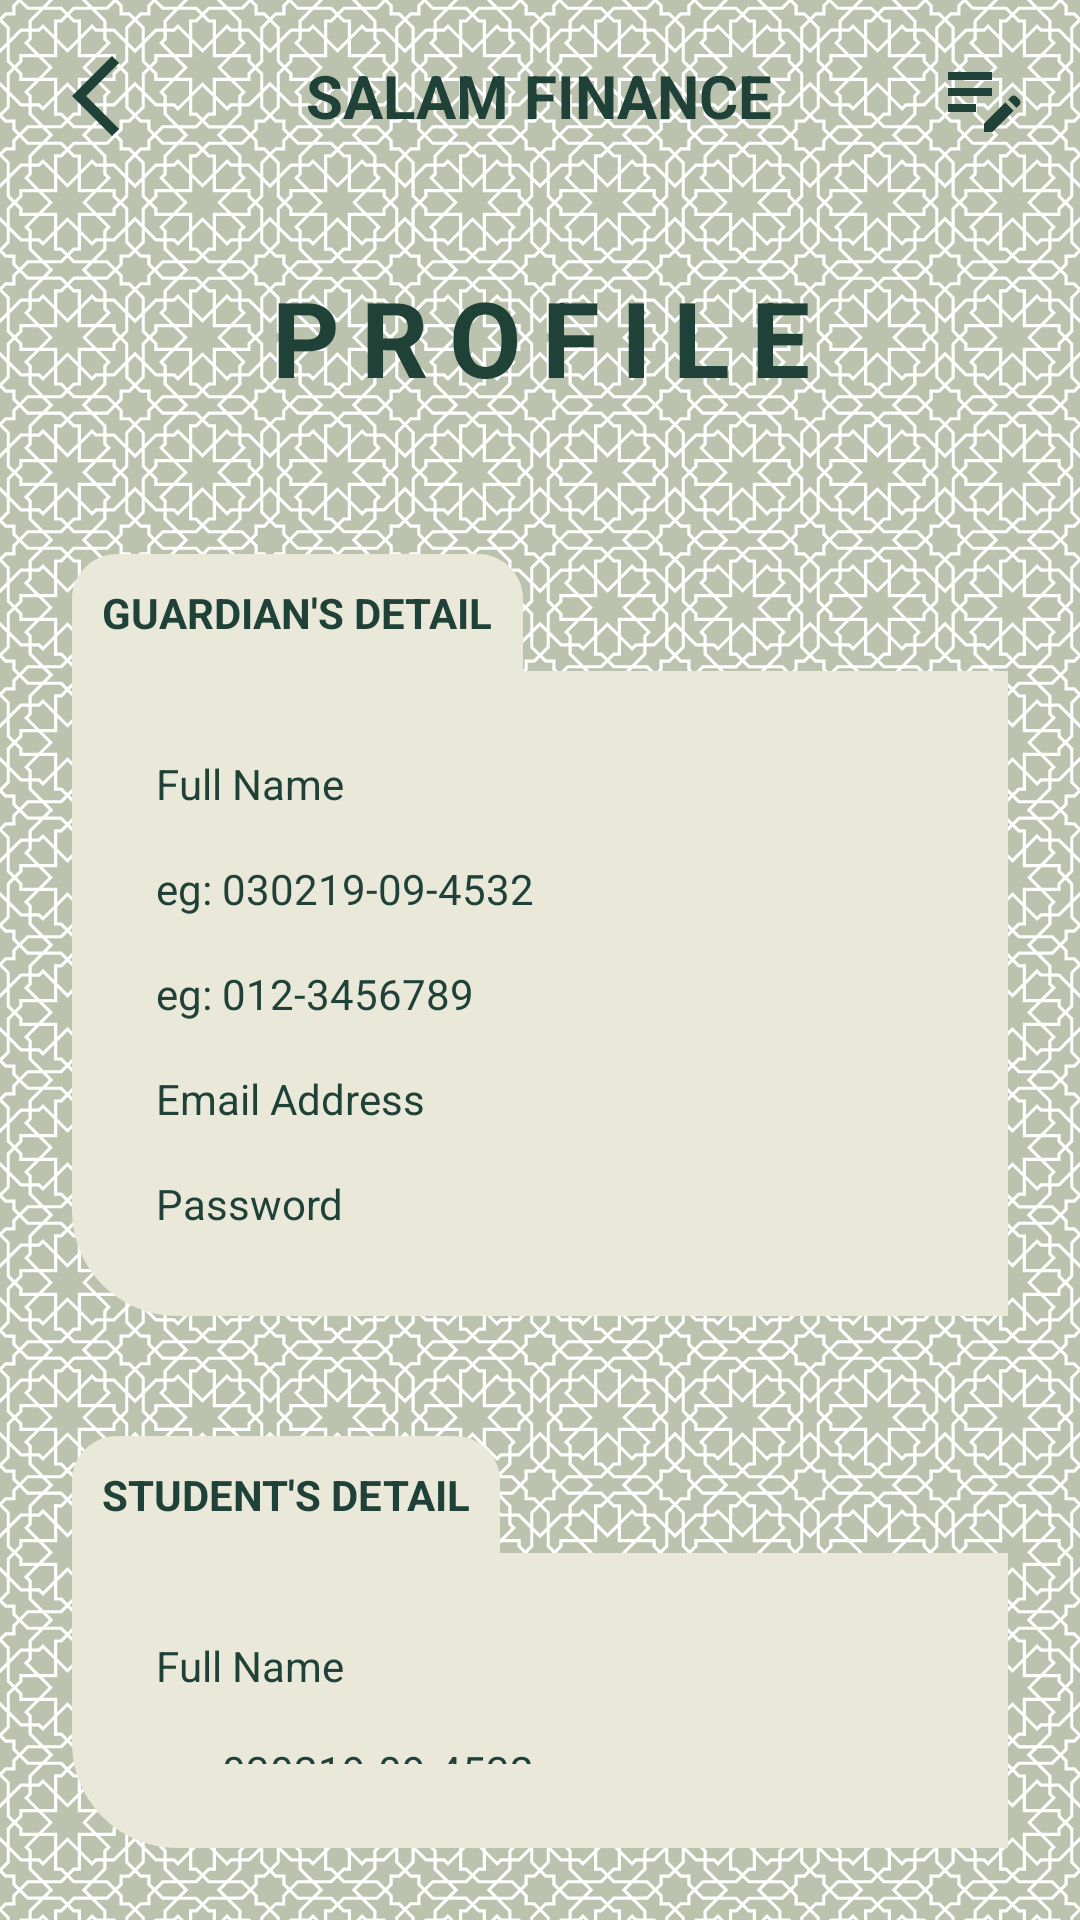

Icon bounding boxes for this 1080px x 1920px phone screenshot, format (x1, y1, x2, y2):
arrow back: (48, 48, 144, 144)
edit note: (936, 48, 1032, 144)
